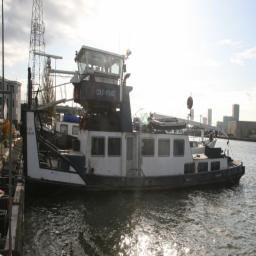tugboat: (21, 43, 247, 204)
